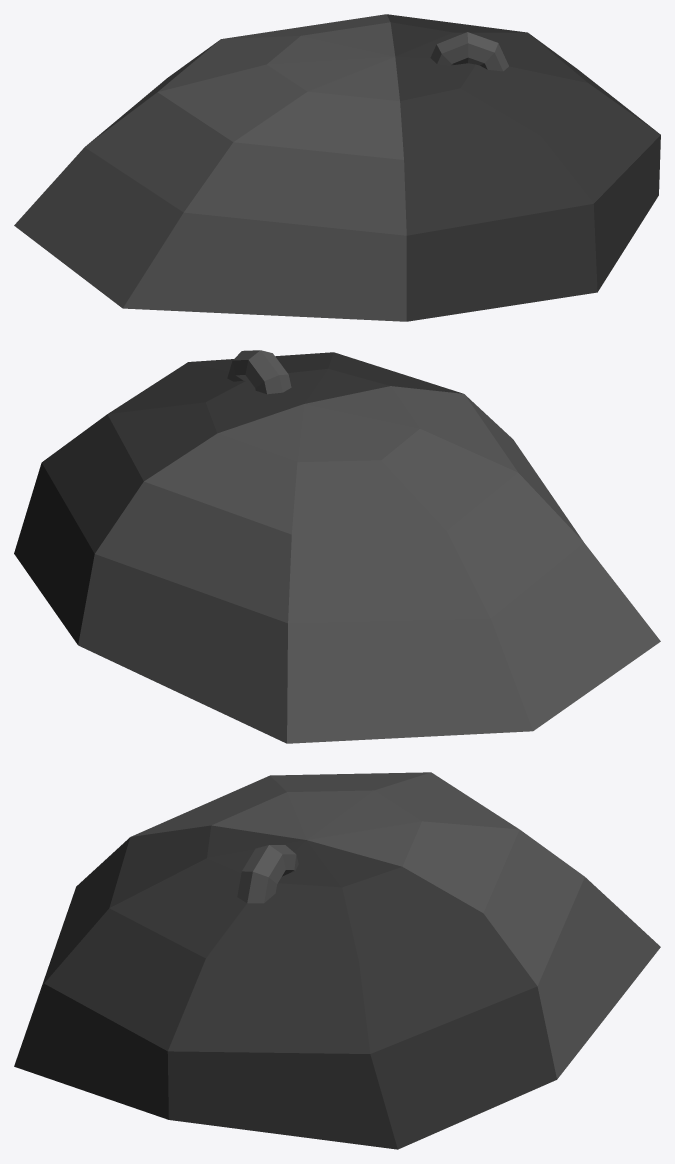
File: Mus.fbx
The picture shows the model from 3 angles, top to bottom: view 1: azimuth 30°, elevation 25°; view 2: azimuth 150°, elevation 25°; view 3: azimuth 270°, elevation 25°; orthographic projection. The views are drawn at different scales.
Parts seen in each view (by area): view 1: Mus; view 2: Mus; view 3: Mus.
Part boxes in pixels (x1,y1,x2,y2): Mus: (14, 14, 660, 321); Mus: (14, 350, 660, 743); Mus: (14, 772, 660, 1149).
Bounding box in the file's own units: 20.85 × 7.08 × 19.54.
